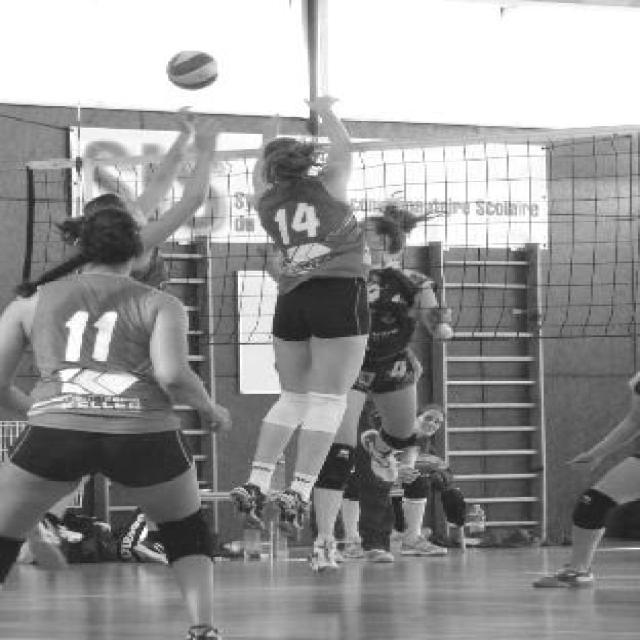volleyball: (166, 50, 218, 91)
